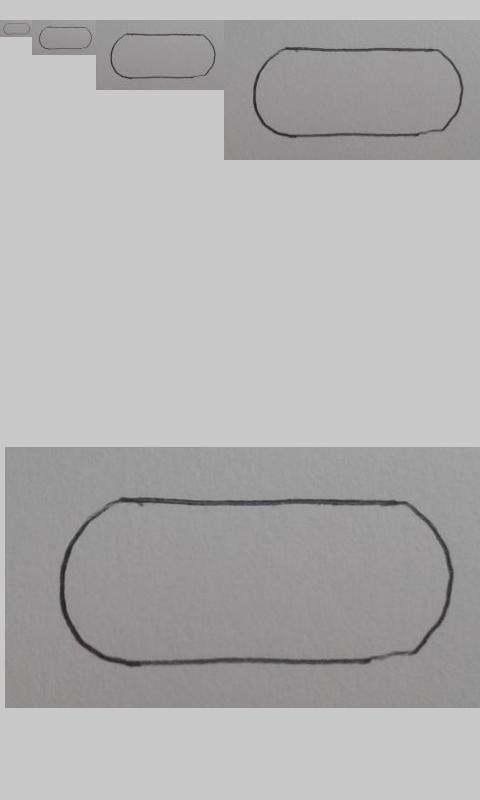chip: (59, 494, 456, 669), (252, 46, 465, 139), (110, 33, 216, 79), (38, 26, 92, 50), (3, 23, 31, 35)
